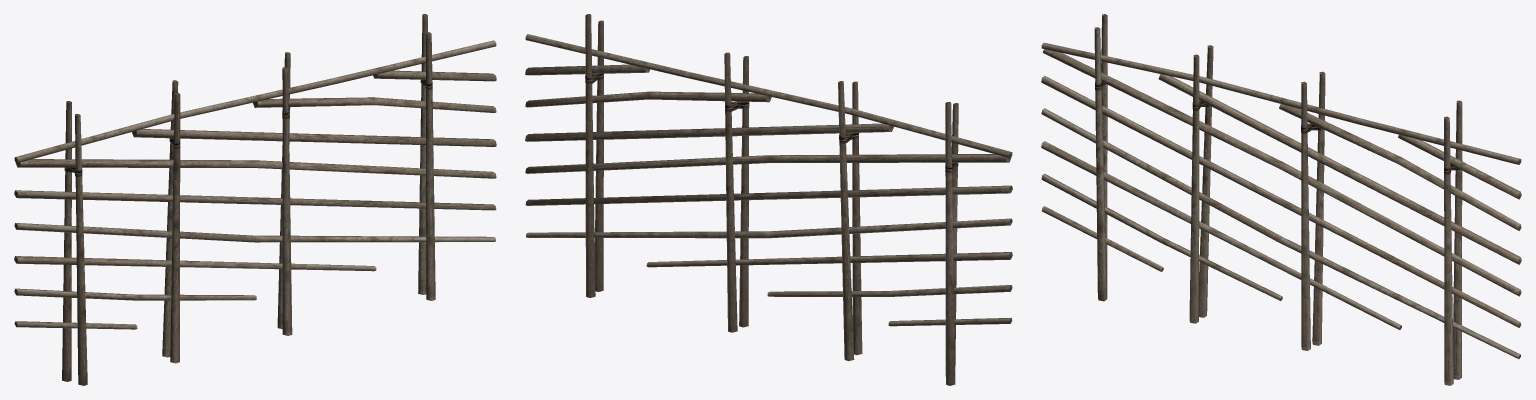
File: GardesgardHigh.dae
The picture shows the model from 3 angles, left to right: view 1: azimuth 30°, elevation 25°; view 2: azimuth 150°, elevation 25°; view 3: azimuth 330°, elevation 25°; orthographic projection.
Parts seen in each view (by area): view 1: GardesgardHigh; view 2: GardesgardHigh; view 3: GardesgardHigh.
Part boxes in pixels (left/top/right/bottom): GardesgardHigh: left=14, top=14, right=496, bottom=385; GardesgardHigh: left=525, top=14, right=1012, bottom=385; GardesgardHigh: left=1041, top=14, right=1521, bottom=385.
Bounding box in the file's own units: 4 × 2.22 × 0.1884.
1 material, 1 textured.
